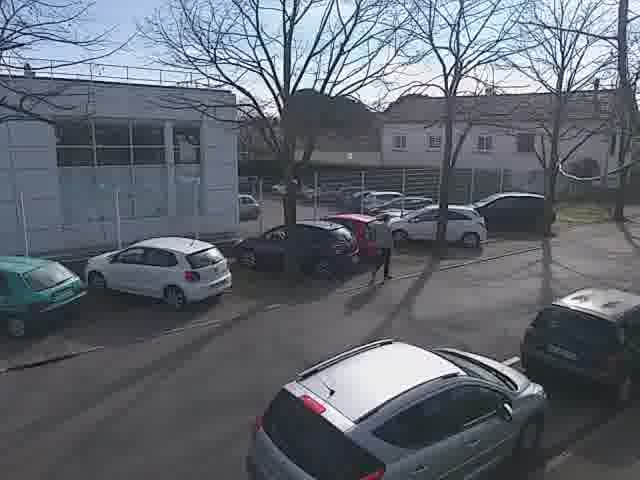persona: (365, 206, 400, 286)
